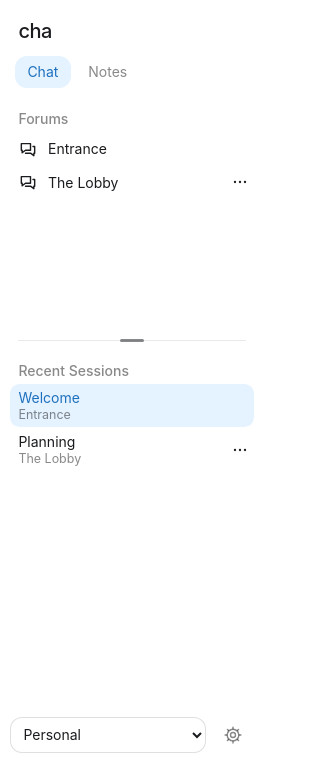
Scenario: Sidebar navigation › offers forum actions only for stored forums
Expected: the button named "Actions for forum The Lobby" is shown, 224,167 -> 254,197
Right-click the button "Entrance" at {"x": 132, "y": 149}, box 10,133 -> 254,165
Right-click the button "The Lobby" at {"x": 117, "y": 182}, box 10,166 -> 224,198
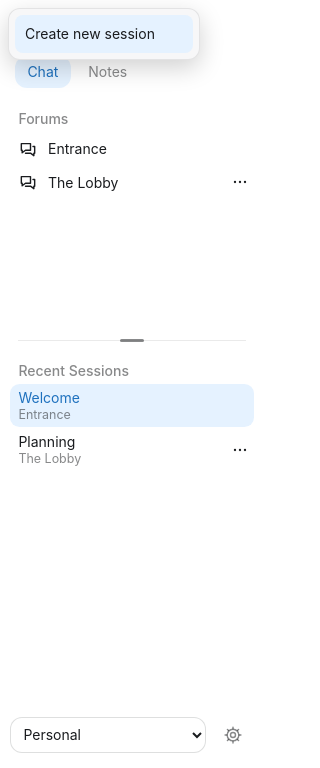
Expected: the menu is shown, 8,8 -> 200,60
